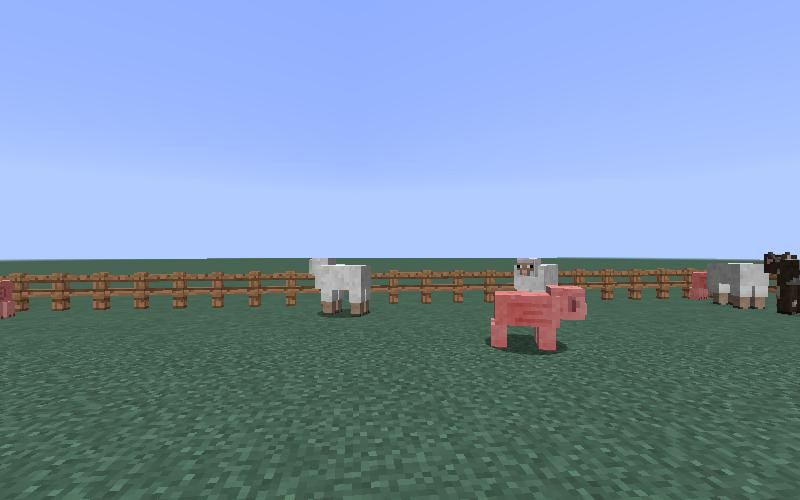pig: (486, 280, 591, 358)
sheep: (305, 255, 374, 324), (697, 256, 771, 313), (512, 257, 558, 291)
